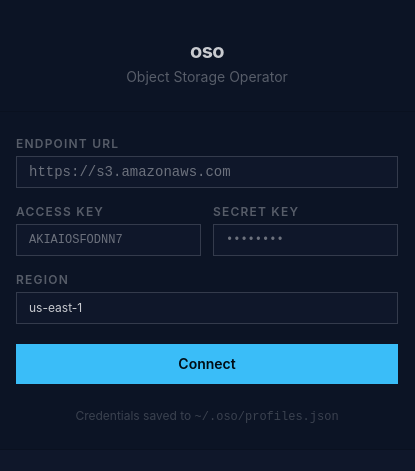
Scenario: SetupScreen › requires endpoint and both keys
The width and height of the screenshot is (415, 471).
Click the button "Connect" at {"x": 207, "y": 364}, box [16,344,398,384]
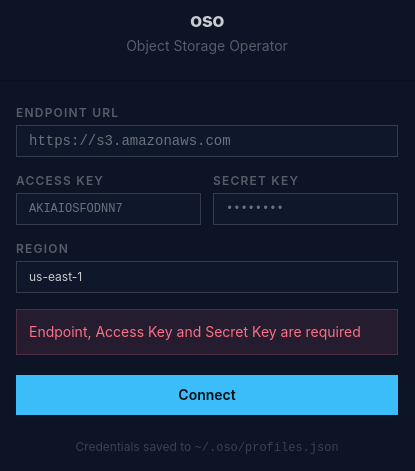
Expected: the text "Endpoint, Access Key and Secret Key are required" is shown, [29,322,361,342]
